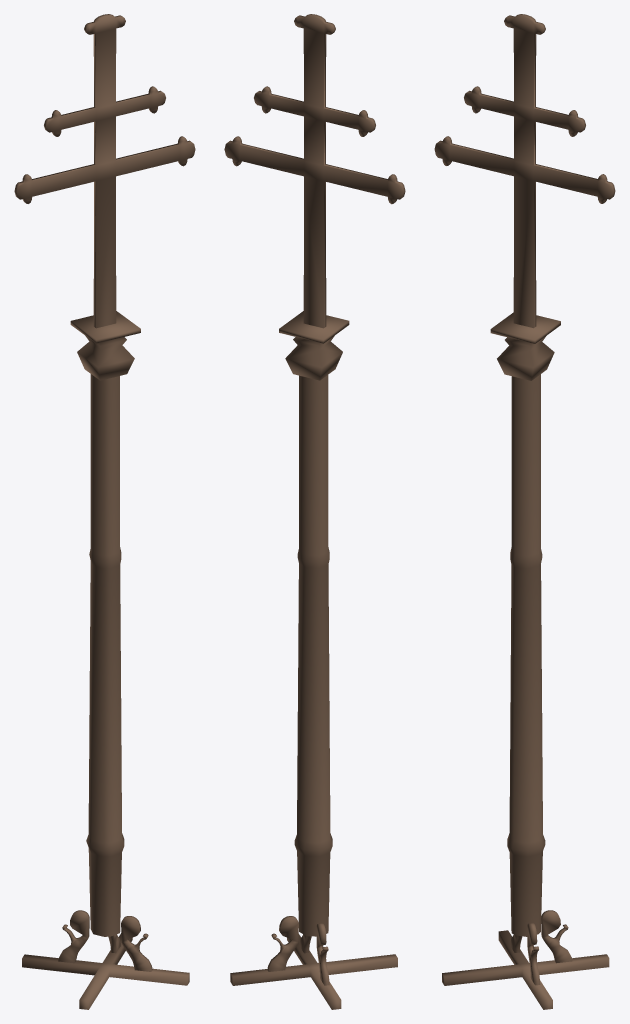
The model's file is cruz.fbx.
3 views of the same model, side by side, from view 1: azimuth 30°, elevation 25°; view 2: azimuth 150°, elevation 25°; view 3: azimuth 330°, elevation 25° (orthographic).
Visible parts, largest first — view 1: Cube.057; view 2: Cube.057; view 3: Cube.057.
Boxes of the visible parts, x1,y1,x2,y2 form: Cube.057: [14, 14, 195, 1009]; Cube.057: [224, 14, 405, 1009]; Cube.057: [434, 14, 615, 1009].
Bounding box in the file's own units: 24.66 × 127 × 15.32.
